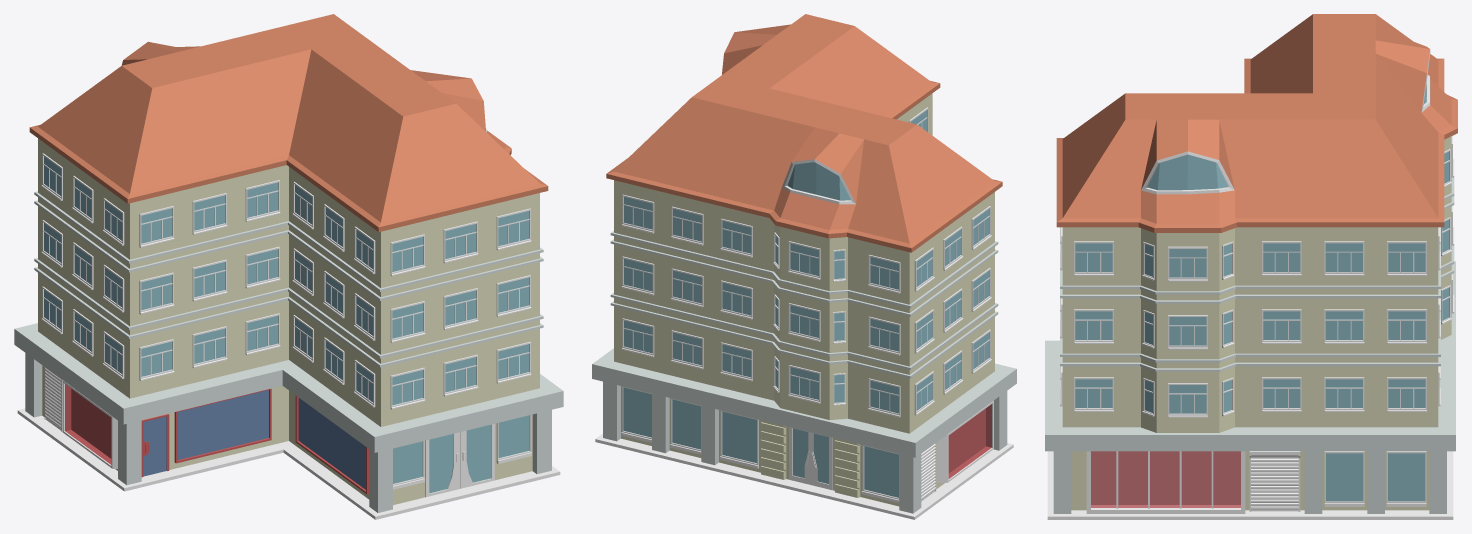
Rendered from batiment V2.fbx.
3 renders of one model, left to right at view 1: azimuth 30°, elevation 25°; view 2: azimuth 150°, elevation 25°; view 3: azimuth 270°, elevation 25°, orthographic. The views are drawn at different scales.
Visible parts, largest first — view 1: Building_facad, Cube_18_2, Cube_19_2, showcase, Cube_24_2, Cube_24, Cube_13, Cube_15, Cube_20_2, Cube_14, Cube_25_2, Cube_26_2 (+22 smaller); view 2: Building_facad, showcase, Cube_22_2, Cube_8_26, Cube_11_2, Cube_12, Cube_7_2, Cube_6_2, Cube_11, Cube_5, Cube_1_2, Cube_2_3 (+18 smaller); view 3: Building_facad, showcase1, blinds_2, Cube_10_2, Cube_9_2, Cube_14, Cube_4_2, Cube_3_2, Cube_2_3, glass_48, glass_58, glass_59 (+29 smaller).
Boxes of the visible parts, box(x1,y1,x2,y2) form: Building_facad: box(14, 14, 563, 519); Cube_18_2: box(178, 390, 268, 459); Cube_19_2: box(298, 398, 365, 489); showcase: box(62, 380, 117, 468); Cube_24_2: box(429, 424, 490, 493); Cube_24: box(425, 423, 494, 497); Cube_13: box(118, 420, 141, 485); Cube_15: box(369, 448, 392, 512); Cube_20_2: box(143, 416, 166, 476); Cube_14: box(532, 410, 551, 474); Cube_25_2: box(498, 415, 529, 457); Cube_26_2: box(393, 441, 422, 483); Building_facad: box(592, 14, 1016, 519); showcase: box(937, 400, 993, 482); Cube_22_2: box(864, 446, 898, 497); Cube_8_26: box(722, 411, 756, 463); Cube_11_2: box(793, 428, 828, 483); Cube_12: box(899, 454, 921, 513); Cube_7_2: box(672, 399, 700, 449); Cube_6_2: box(623, 387, 651, 437); Cube_11: box(789, 427, 832, 490); Cube_5: box(701, 405, 718, 465); Cube_1_2: box(652, 393, 669, 453); Cube_2_3: box(603, 381, 620, 441); Building_facad: box(1045, 14, 1457, 519); showcase1: box(1086, 451, 1245, 513); blinds_2: box(1249, 451, 1300, 511); Cube_10_2: box(1326, 453, 1363, 501); Cube_9_2: box(1388, 453, 1425, 501); Cube_14: box(1053, 451, 1071, 513); Cube_4_2: box(1304, 451, 1322, 513); Cube_3_2: box(1367, 451, 1384, 513); Cube_2_3: box(1429, 451, 1446, 513); glass_48: box(1325, 243, 1362, 271); glass_58: box(1169, 249, 1206, 277); glass_59: box(1169, 317, 1206, 345).
Bounding box in the file's own units: 2951 × 2898 × 2952.
